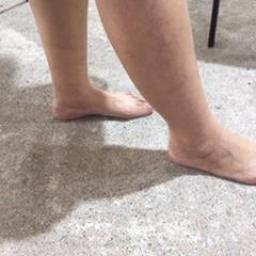Medial View -Left Foot-: (46, 70, 155, 132)
